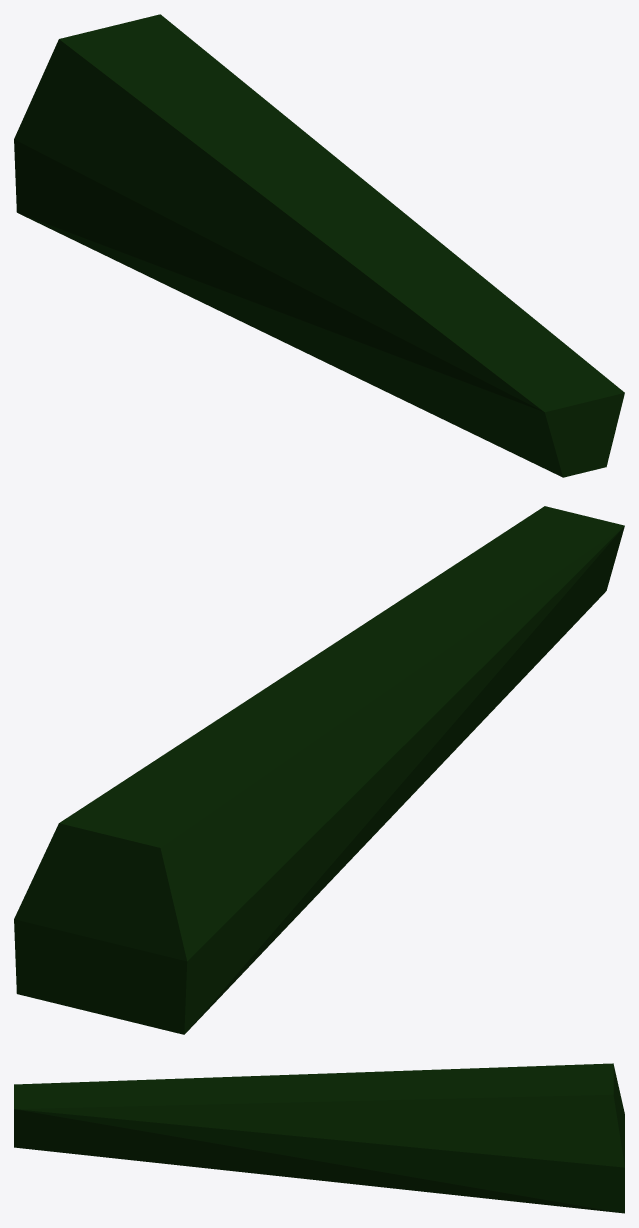
The model's file is Cannon.glb.
The picture shows the model from 3 angles, top to bottom: view 1: azimuth 30°, elevation 25°; view 2: azimuth 150°, elevation 25°; view 3: azimuth 270°, elevation 25°; orthographic projection. The views are drawn at different scales.
Parts seen in each view (by area): view 1: Cannon; view 2: Cannon; view 3: Cannon.
Boxes of the visible parts, x1,y1,x2,y2 form: Cannon: [14, 14, 624, 477]; Cannon: [14, 506, 624, 1034]; Cannon: [14, 1063, 624, 1213].
Size of the model in its own units: 0.0324 by 0.0308 by 0.1567.
